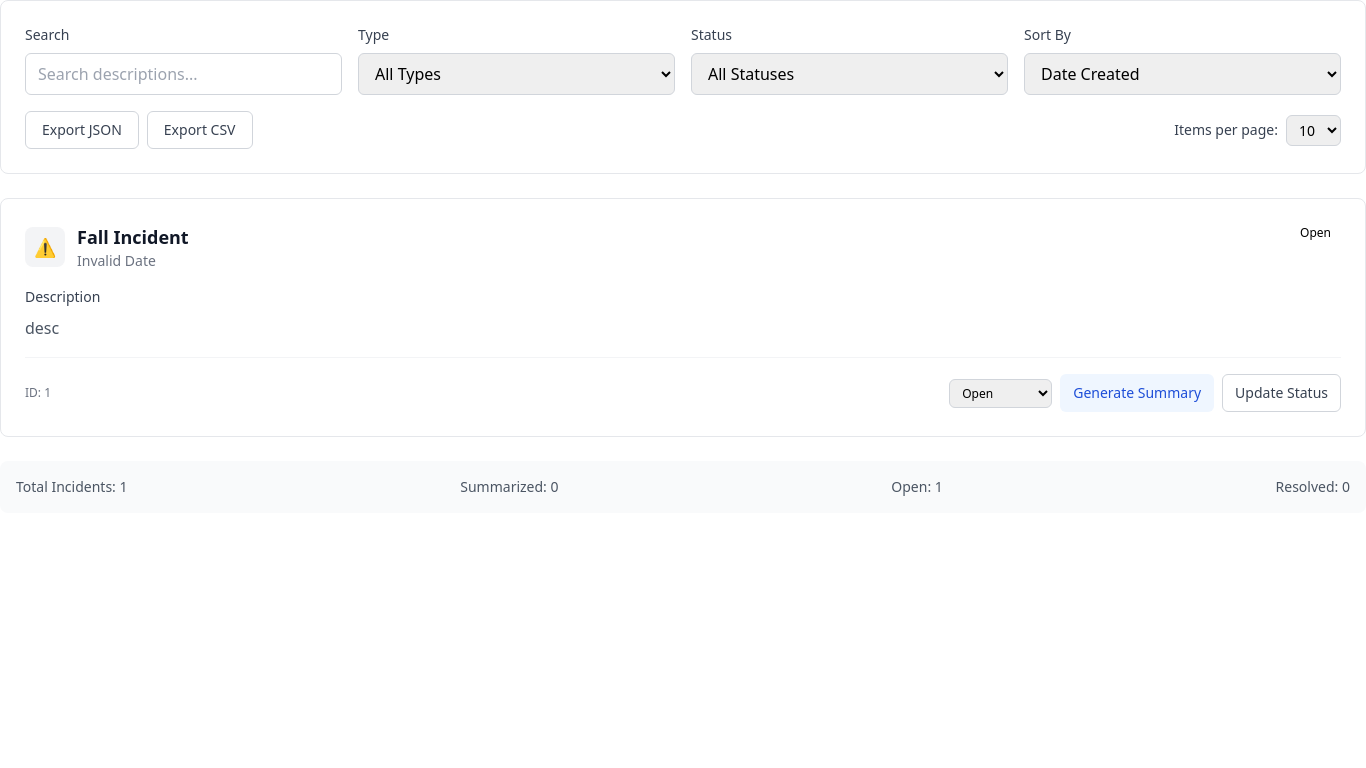
Scenario: IncidentList › shows error message if export fails
The width and height of the screenshot is (1366, 768).
Expected: the heading "Fall Incident" is shown, [77,223,189,251]
Click the button "Export CSV" at {"x": 200, "y": 130}, box [147,111,252,149]
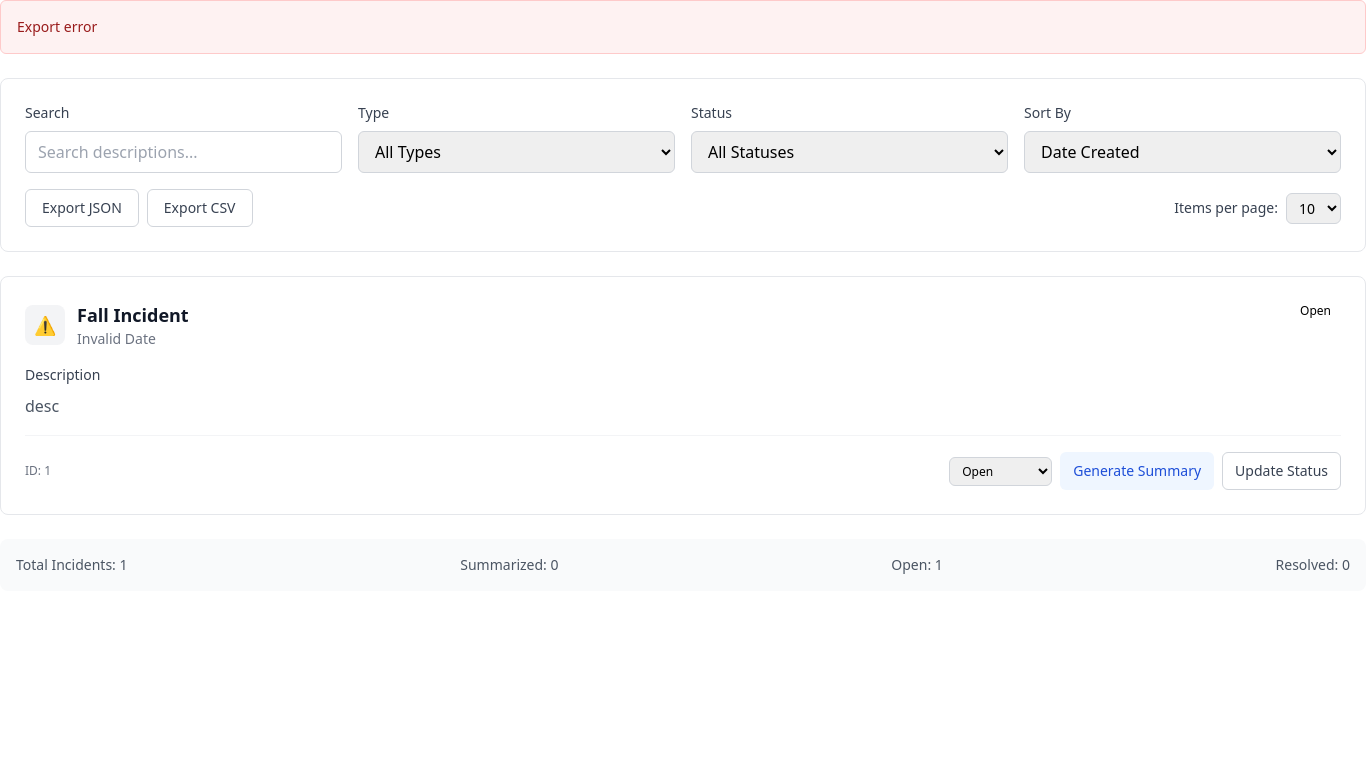
Now the text "Export error" is shown, box [17,17,97,36]
